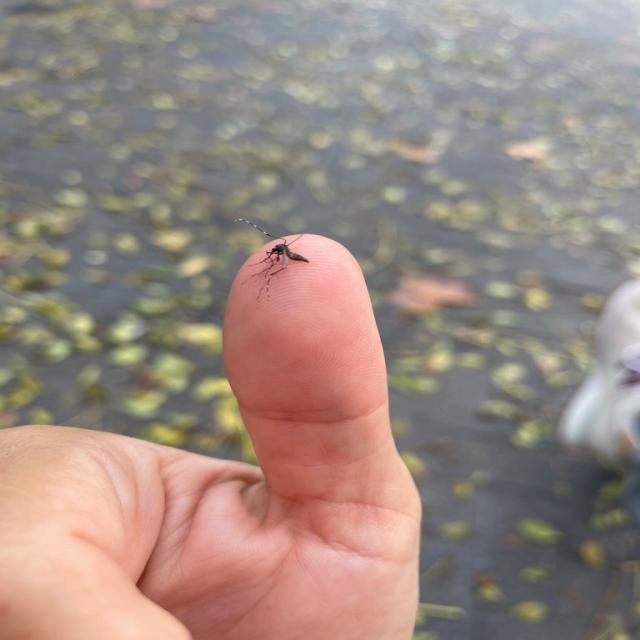albopictus: (229, 213, 317, 311)
